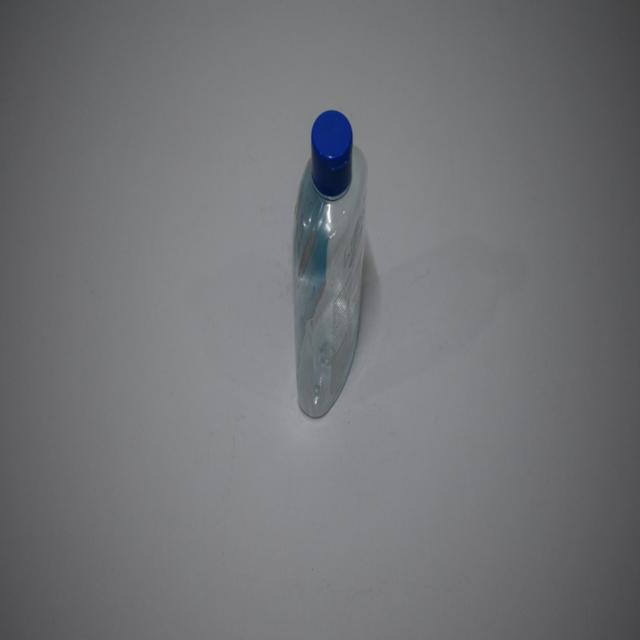bottle: (288, 108, 375, 426)
